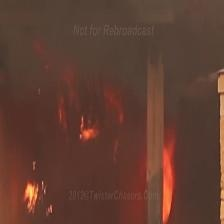smoke: (5, 0, 174, 86)
